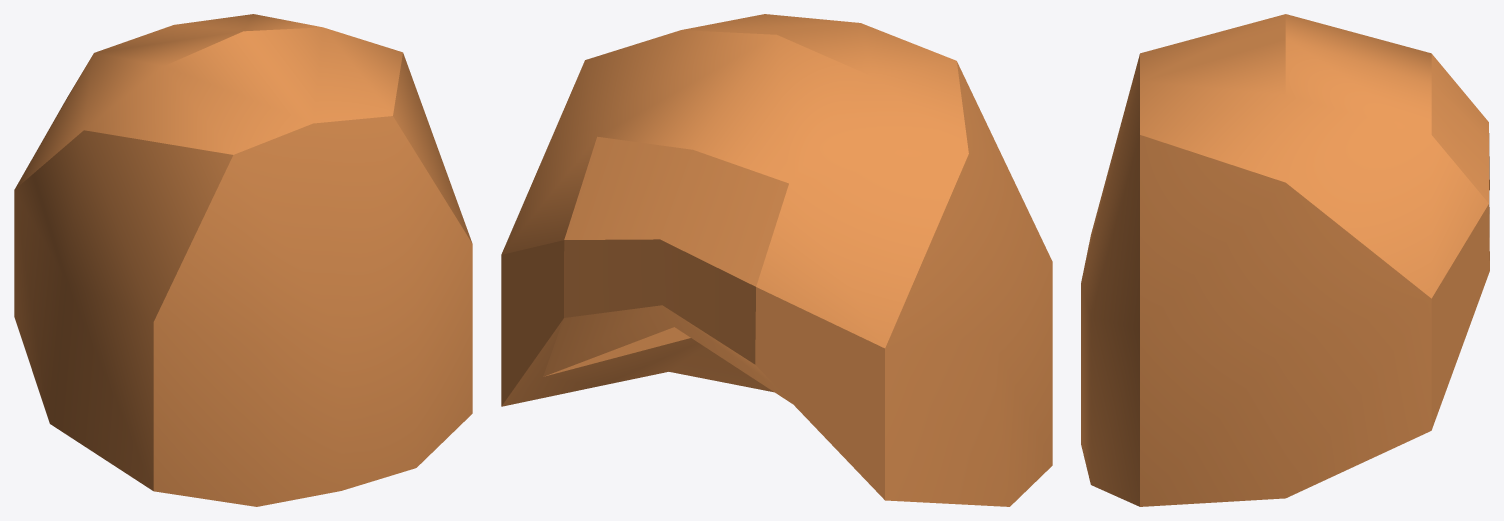
File: helmet.fbx
3 renders of one model, left to right at view 1: azimuth 30°, elevation 25°; view 2: azimuth 150°, elevation 25°; view 3: azimuth 270°, elevation 25°, orthographic. The views are drawn at different scales.
Visible parts, largest first — view 1: Cube; view 2: Cube; view 3: Cube.
Part boxes in pixels (x1,y1,x2,y2): Cube: (14, 14, 472, 506); Cube: (501, 14, 1052, 506); Cube: (1081, 14, 1489, 506).
Bounding box in the file's own units: 29.34 × 28.09 × 25.66.
